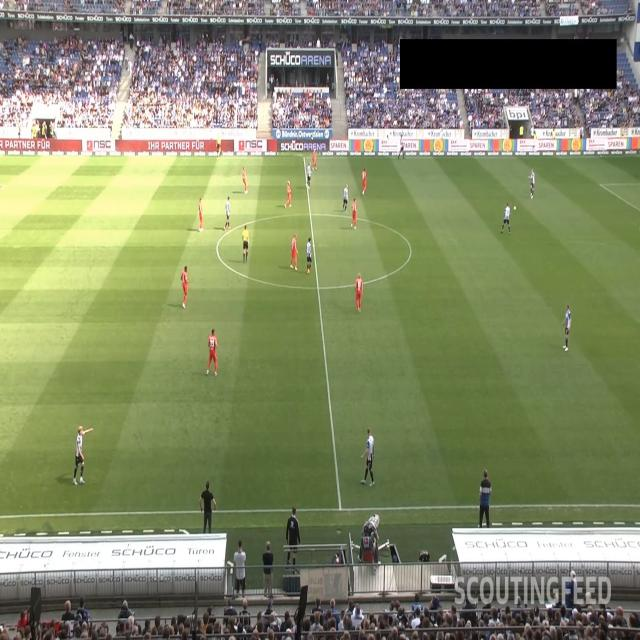ball: (513, 204, 517, 210)
